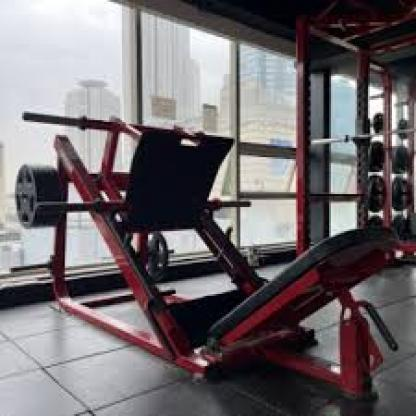leg press: (5, 86, 416, 405)
